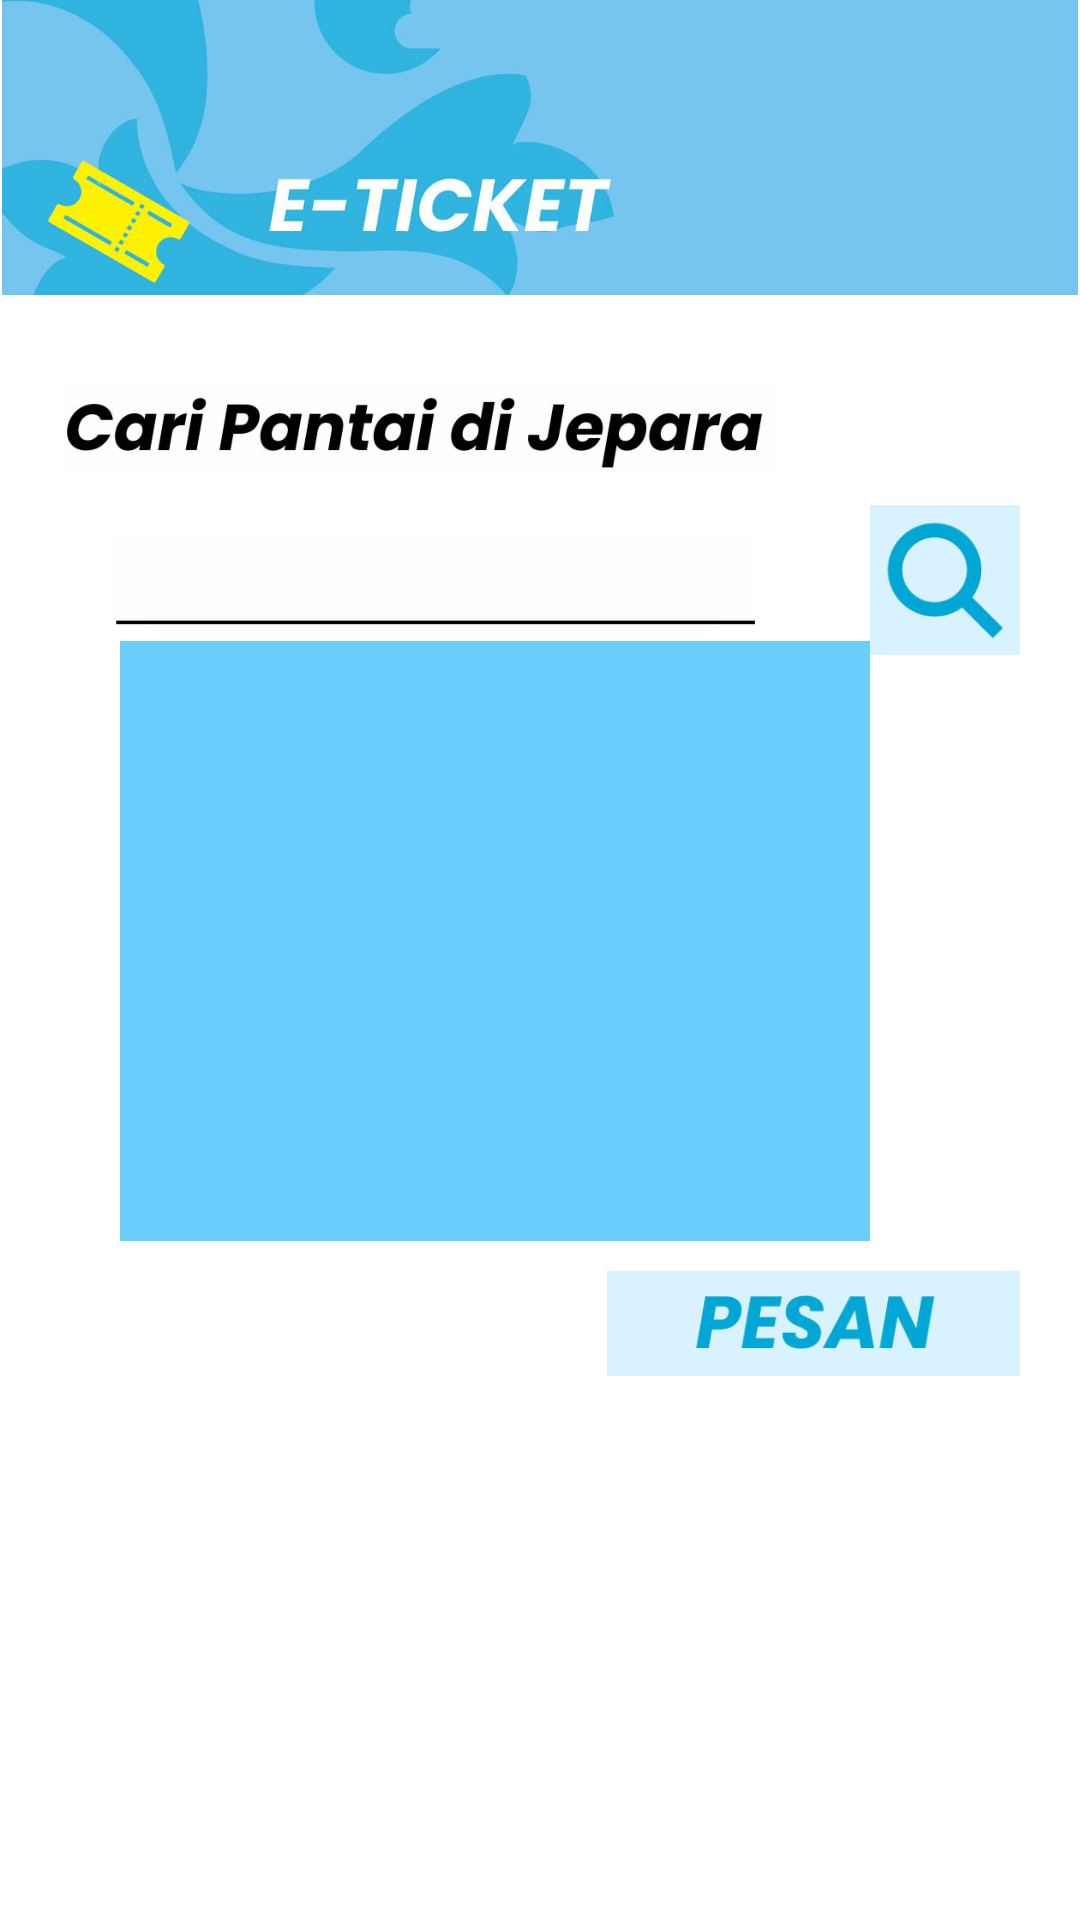

Icon bounding boxes for this 1080×1920 phone screenshot, format bbox(x1, y1, x2, y2):
search: bbox(870, 505, 1020, 655)
